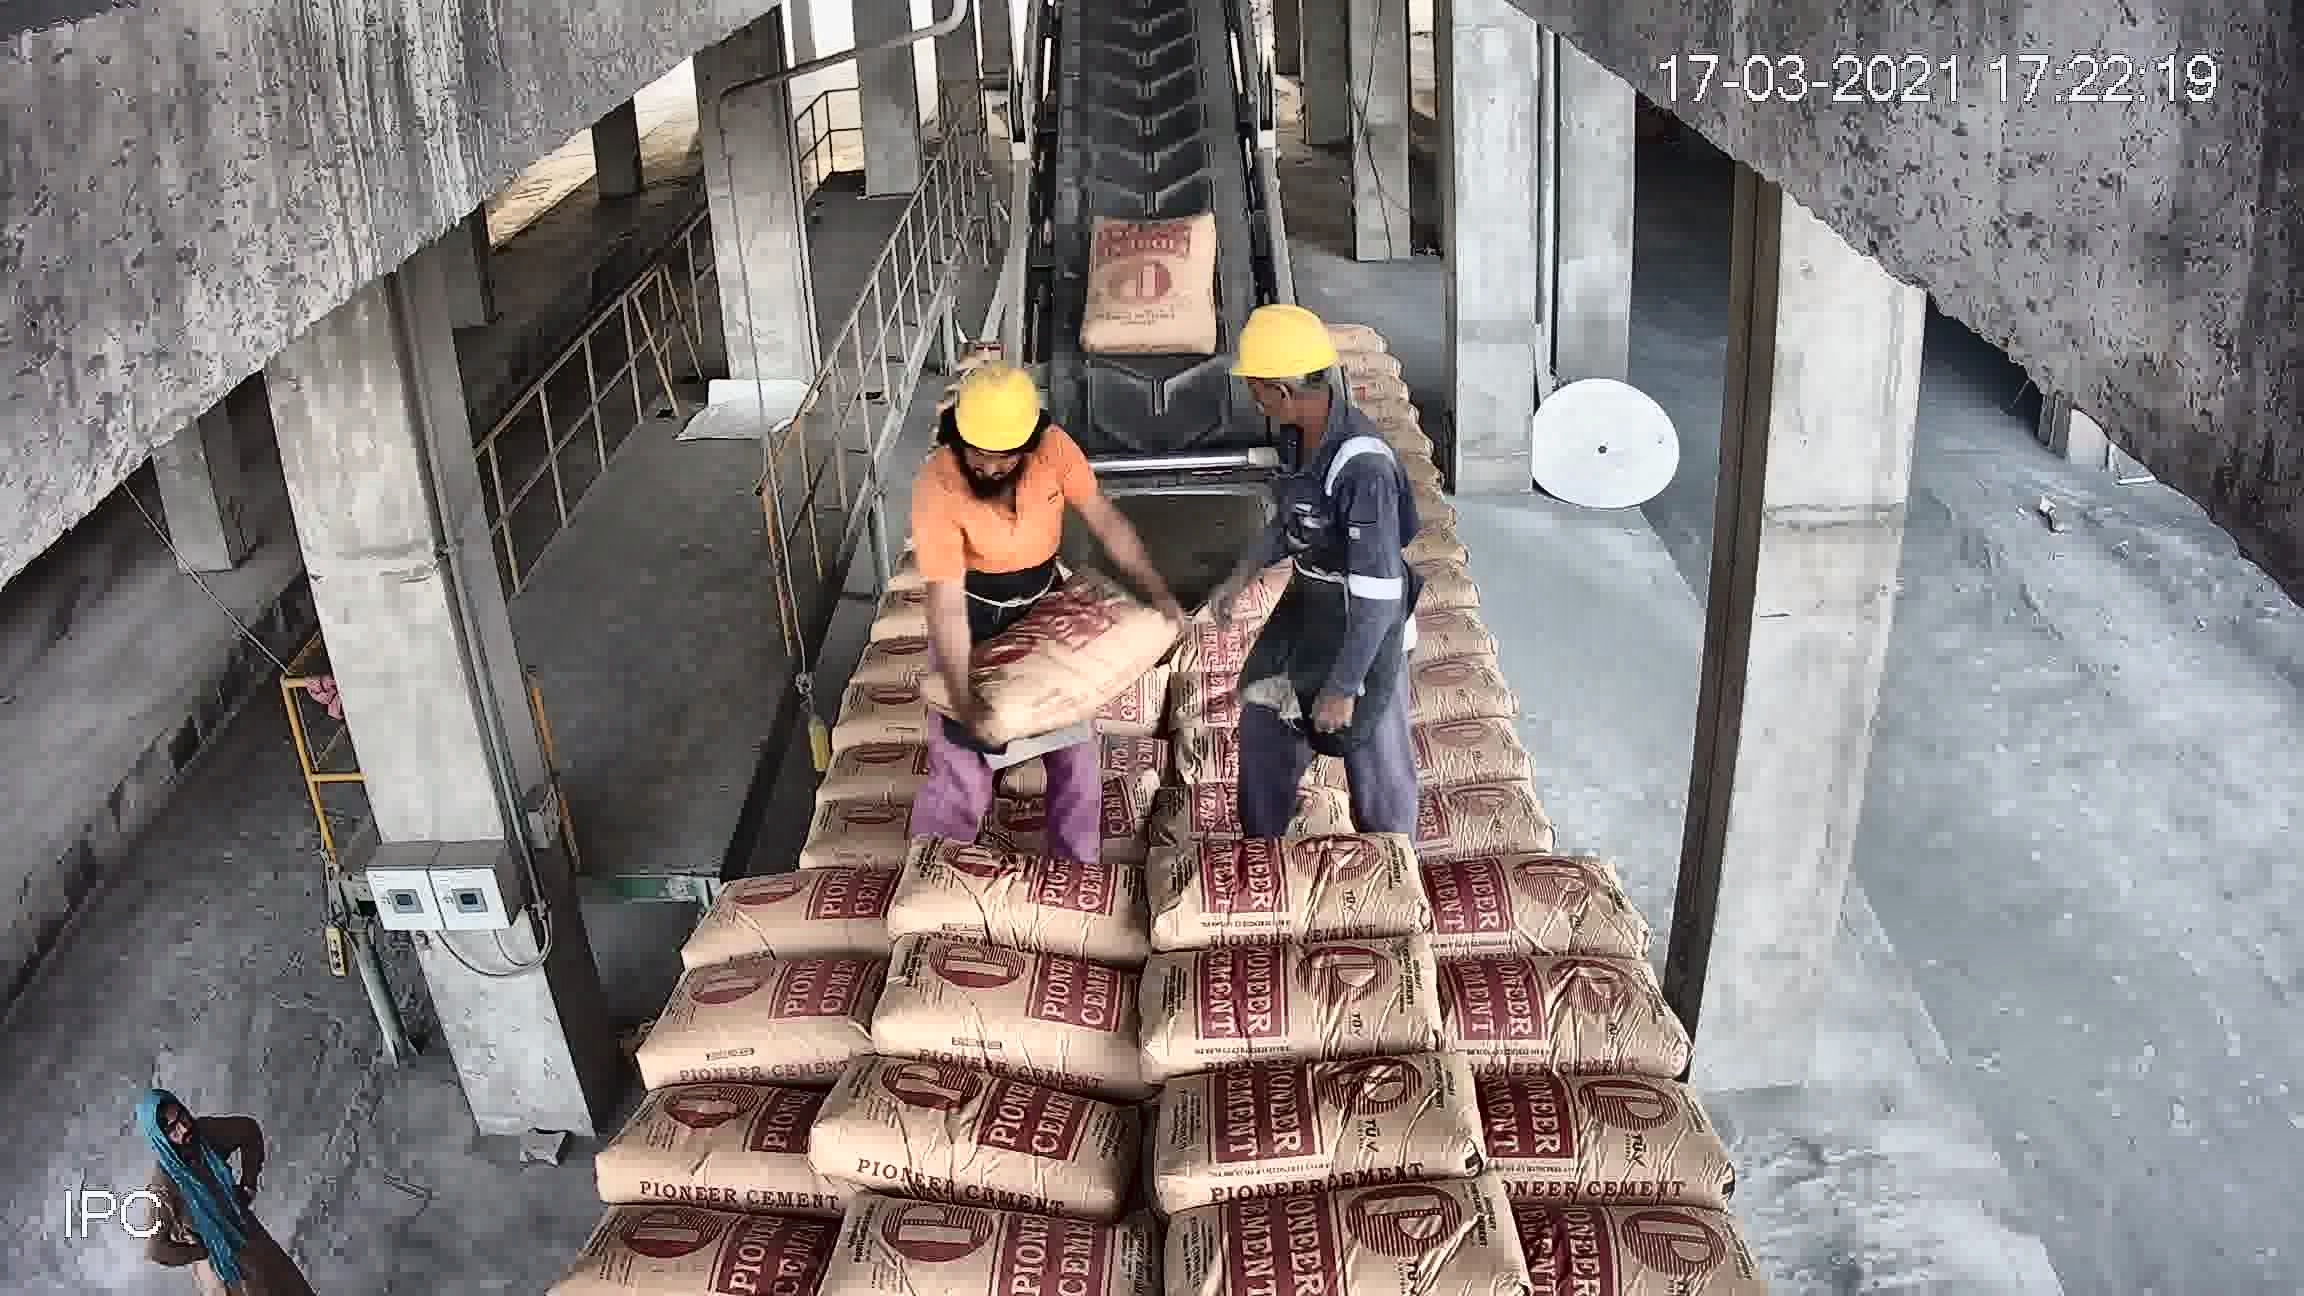bag: (1217, 486, 1412, 598), (1093, 158, 1217, 272)
bag_h: (1146, 1048, 1497, 1201), (1133, 940, 1446, 1071), (859, 949, 1139, 1079), (1158, 801, 1404, 945), (1152, 720, 1396, 851), (1158, 1184, 1492, 1279), (1449, 945, 1684, 1060), (801, 1218, 1147, 1296), (633, 961, 873, 1070), (597, 1089, 817, 1204), (1499, 1065, 1715, 1182), (788, 1100, 1144, 1169), (886, 761, 1144, 847), (560, 1215, 831, 1296), (1525, 1190, 1726, 1294), (685, 875, 921, 961), (1154, 674, 1367, 767), (726, 772, 916, 877), (905, 851, 1130, 938), (1445, 851, 1616, 959), (748, 699, 934, 790), (932, 688, 1147, 764), (1410, 771, 1590, 856), (1381, 695, 1548, 767), (847, 630, 991, 695), (1044, 527, 1169, 582), (1065, 571, 1180, 627), (864, 595, 1000, 638), (888, 540, 968, 592)
belt: (1029, 21, 1282, 460)
